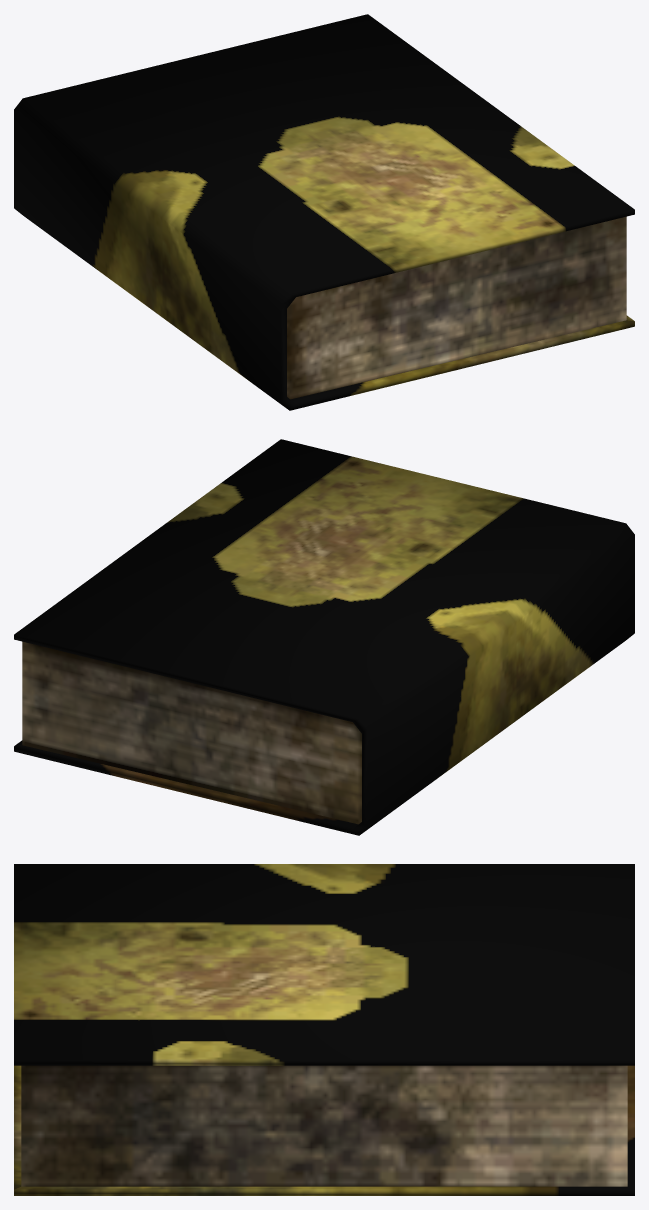
The model's file is book13.FBX.
3 renders of one model, top to bottom at view 1: azimuth 30°, elevation 25°; view 2: azimuth 150°, elevation 25°; view 3: azimuth 270°, elevation 25°, orthographic. The views are drawn at different scales.
Parts seen in each view (by area): view 1: SM_Book13; view 2: SM_Book13; view 3: SM_Book13.
Boxes of the visible parts, x1=… form: SM_Book13: x1=14, y1=14, x2=634, y2=410; SM_Book13: x1=14, y1=439, x2=634, y2=835; SM_Book13: x1=14, y1=864, x2=634, y2=1195.
Bounding box in the file's own units: 13.35 × 4.22 × 17.45.
Materials: 1 (1 with a texture image).
